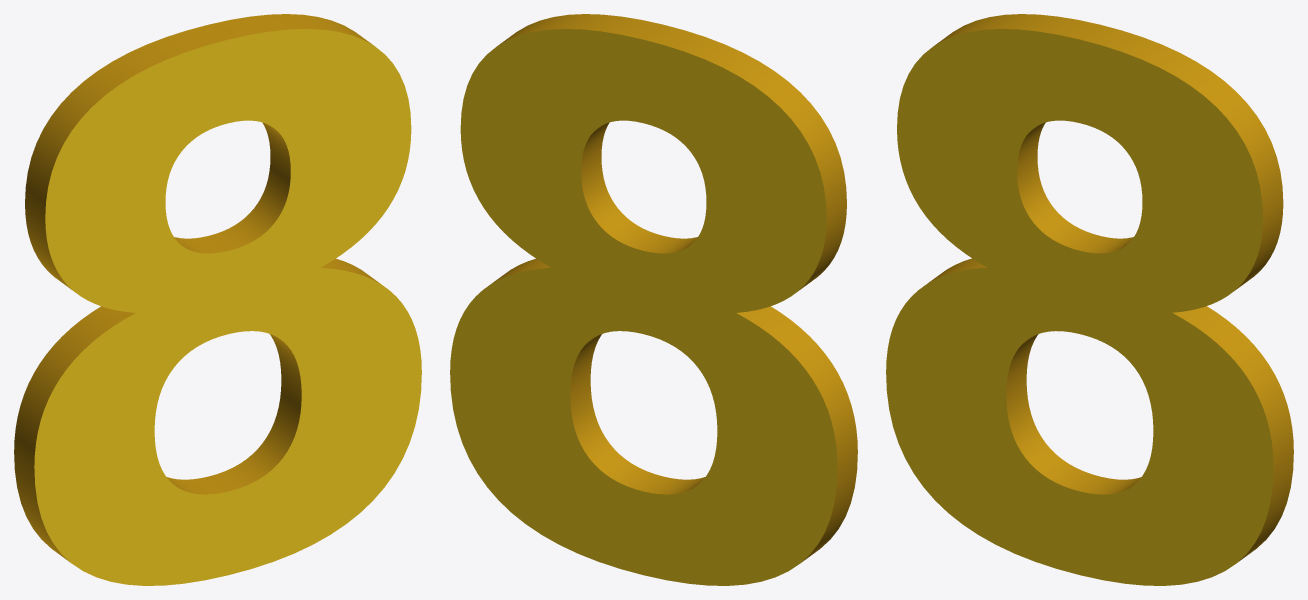
The model's file is Digito8.obj.
The picture shows the model from 3 angles, left to right: view 1: azimuth 30°, elevation 25°; view 2: azimuth 150°, elevation 25°; view 3: azimuth 330°, elevation 25°; orthographic projection.
Visible parts, largest first — view 1: Digito8; view 2: Digito8; view 3: Digito8.
Boxes of the visible parts, left/top/right/bottom form: Digito8: left=14, top=14, right=421, bottom=585; Digito8: left=450, top=14, right=857, bottom=585; Digito8: left=886, top=14, right=1293, bottom=585.
Bounding box in the file's own units: 0.4399 × 0.581 × 0.04.
1 material, 1 textured.
